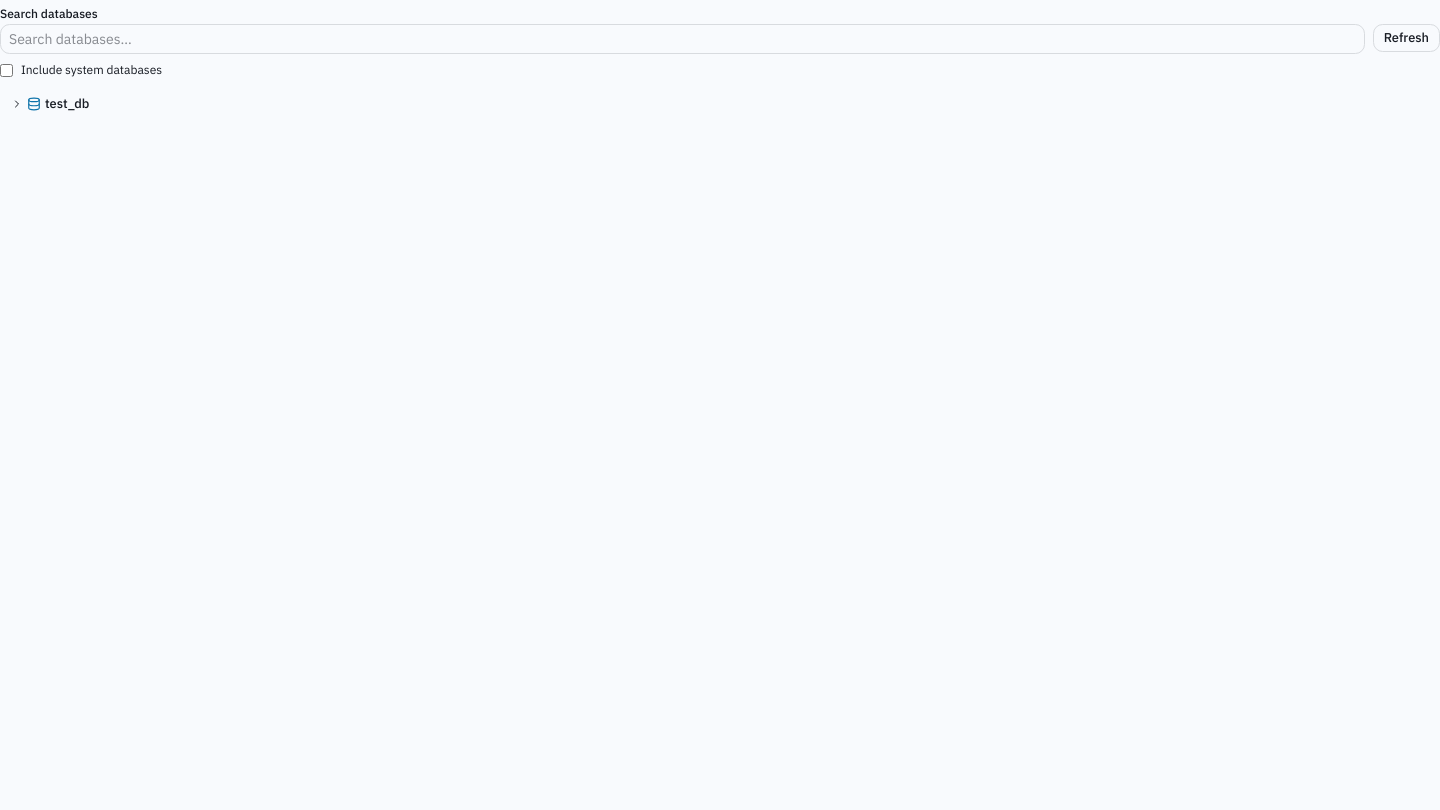
it: QueryObjectInspector › shows empty notices when arrays are empty
Click the button "test_db": point(67, 104) [0, 90, 1439, 118]
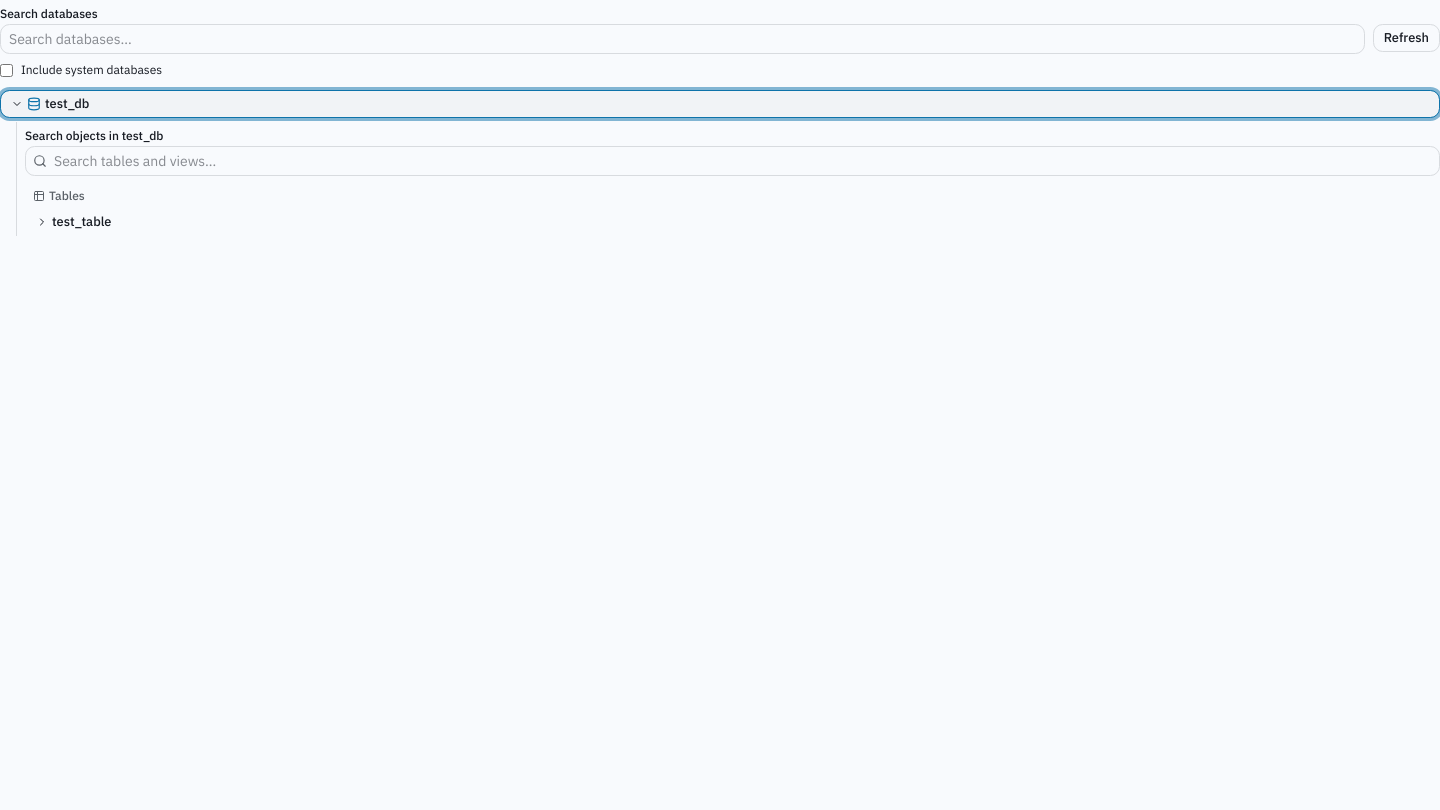
Click the button "test_table": point(82, 222) [25, 208, 1439, 236]
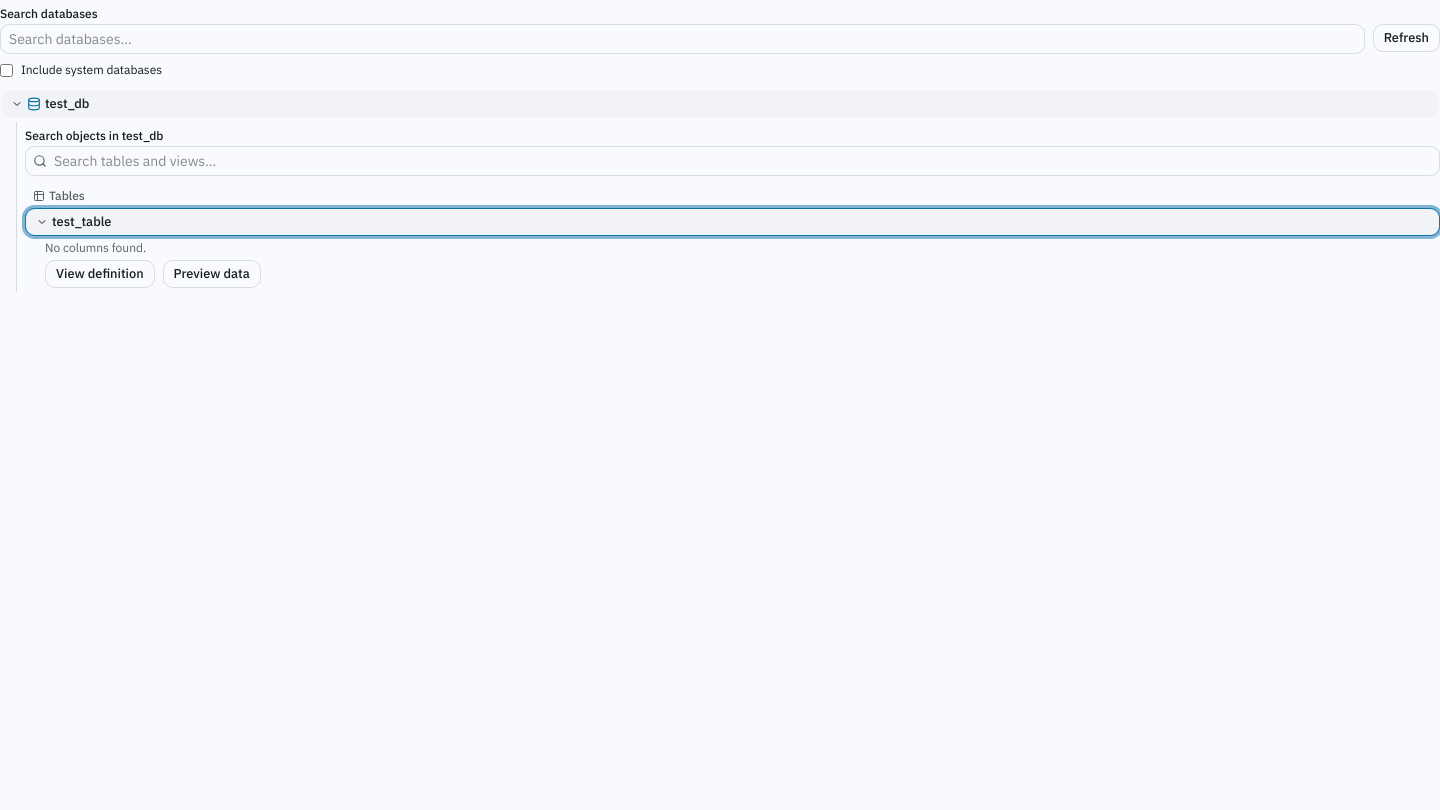
Right-click the button "test_table": point(82, 222) [25, 208, 1439, 236]
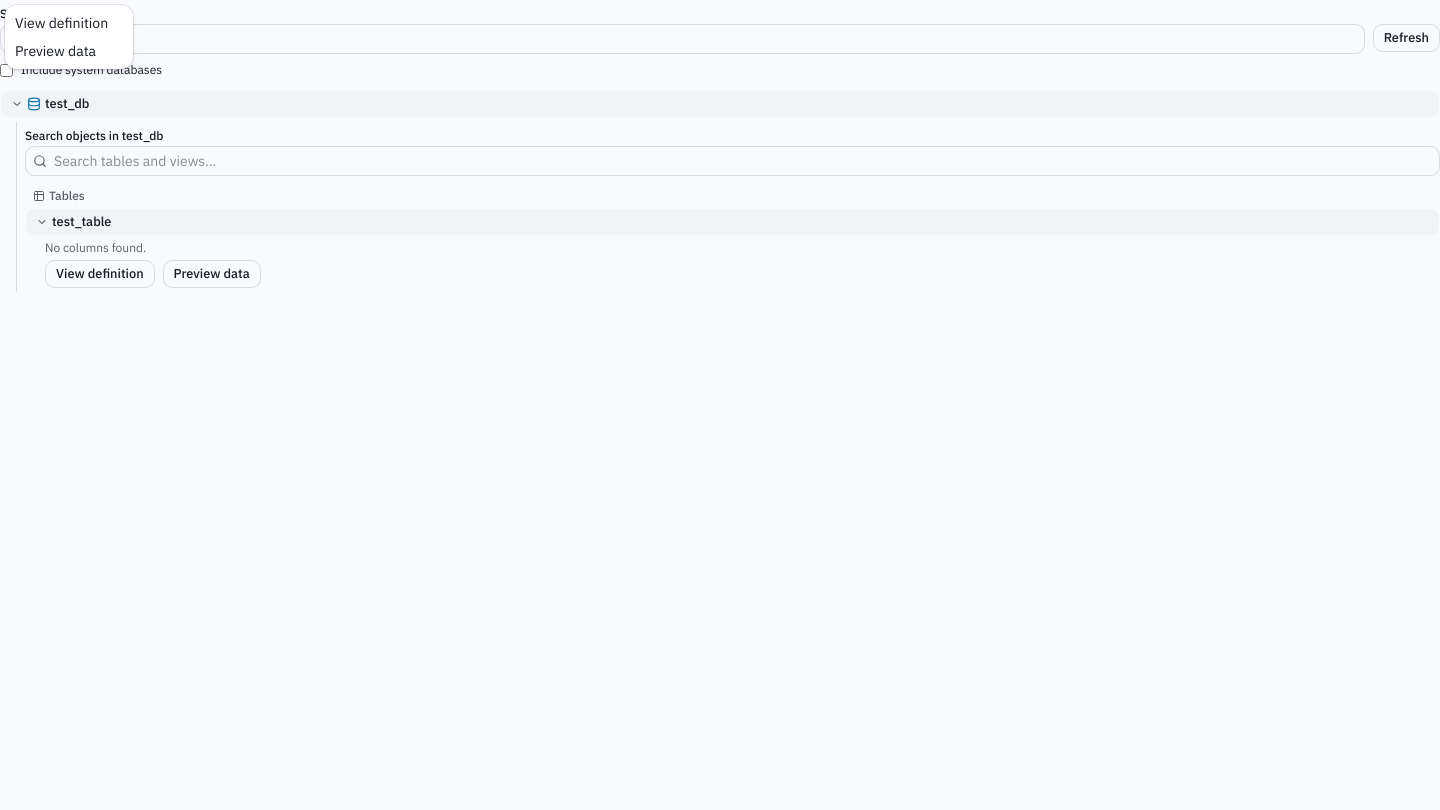
Click the menu item "View definition": point(62, 23) [15, 14, 108, 32]
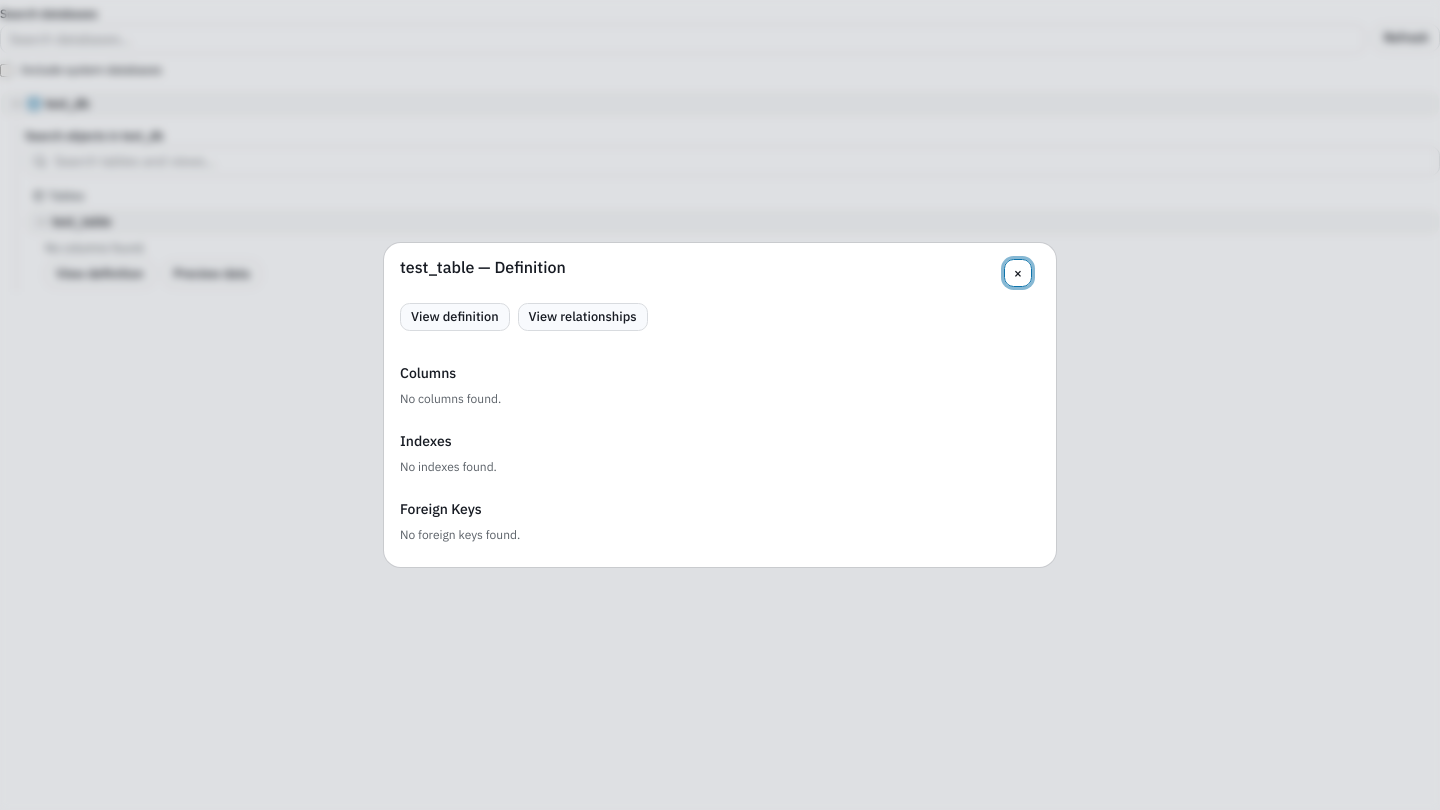
Expected: the text "No columns found." is shown, [400, 391, 501, 406]
Expected: the text "No indexes found." is shown, [400, 459, 497, 474]
Expected: the text "No foreign keys found." is shown, [400, 527, 520, 542]
